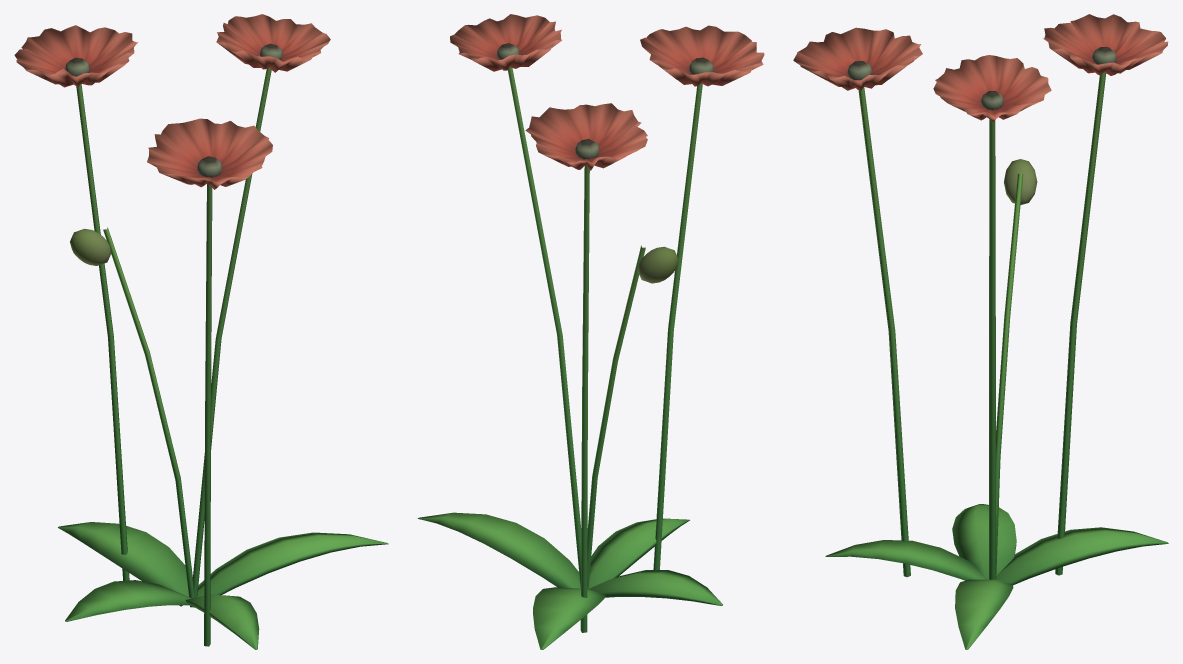
File: poppy_clump.glb
3 renders of one model, left to right at view 1: azimuth 30°, elevation 25°; view 2: azimuth 150°, elevation 25°; view 3: azimuth 270°, elevation 25°, orthographic.
Visible parts, largest first — view 1: poppy_clump; view 2: poppy_clump; view 3: poppy_clump.
Part boxes in pixels (bbox=[...]): poppy_clump: bbox=[14, 14, 388, 649]; poppy_clump: bbox=[417, 14, 764, 649]; poppy_clump: bbox=[793, 14, 1168, 649].
Size of the model in its own units: 0.1286 by 0.2169 by 0.1342.
